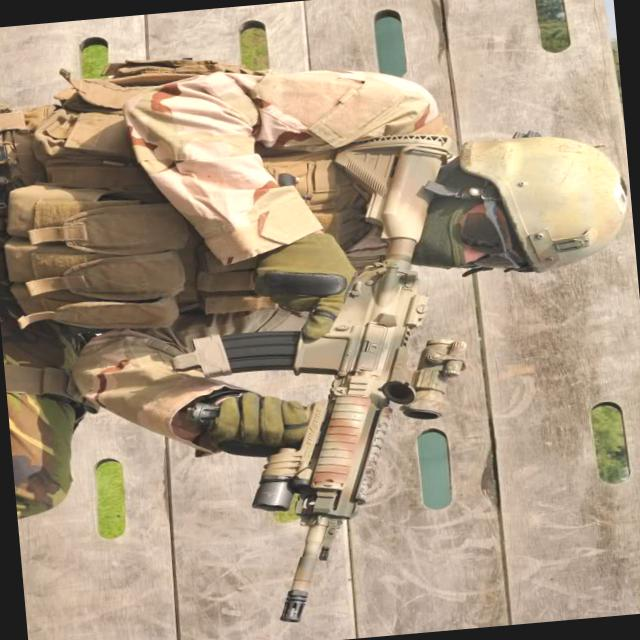long weapon: (207, 104, 504, 626)
